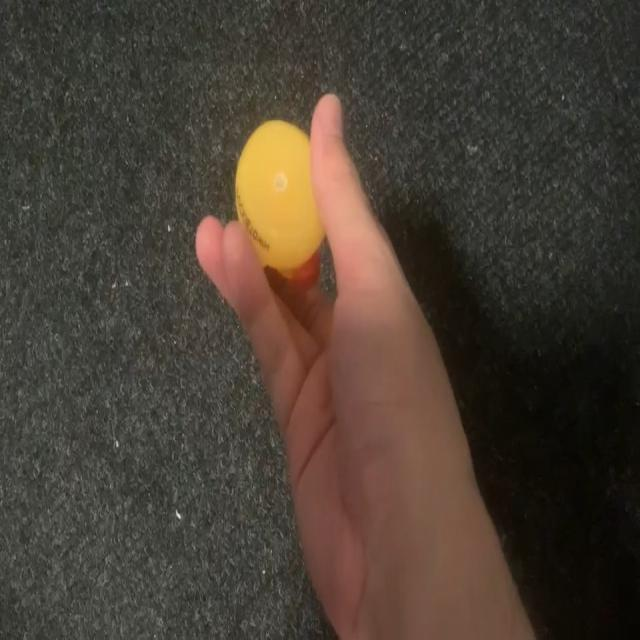rubber-duck: (234, 119, 322, 283)
